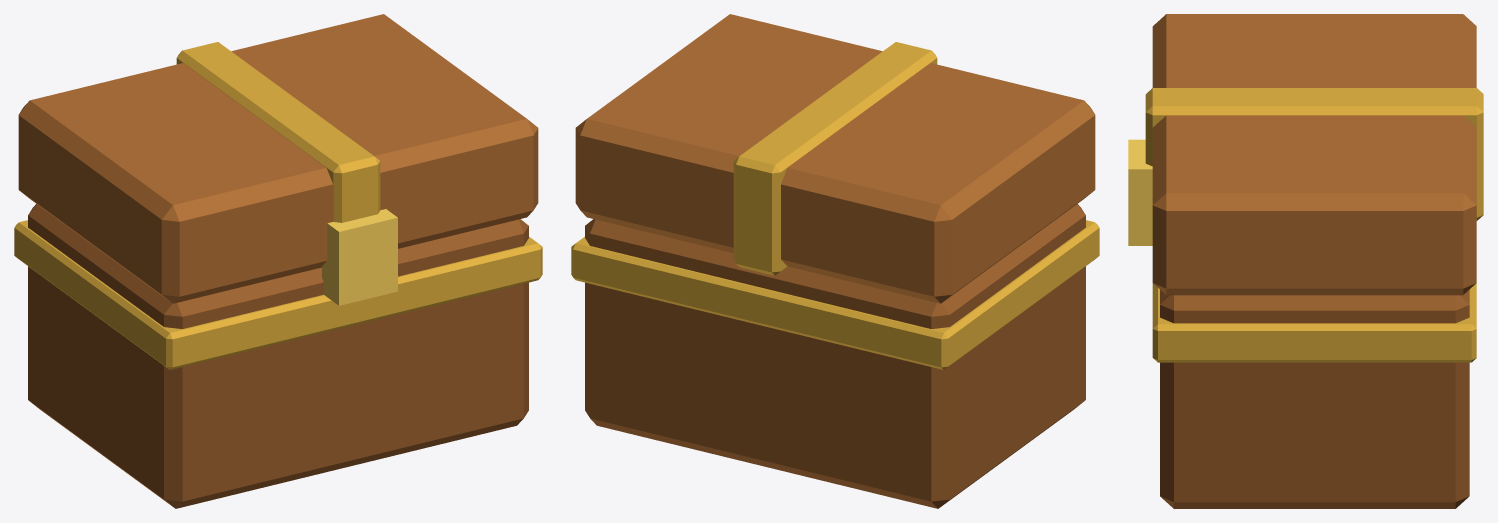
The model's file is chest.glb.
3 views of the same model, side by side, from view 1: azimuth 30°, elevation 25°; view 2: azimuth 150°, elevation 25°; view 3: azimuth 270°, elevation 25° (orthographic). The views are drawn at different scales.
Parts seen in each view (by area): view 1: Lid, Base, BandB, BandL, Lock; view 2: Lid, Base, BandB, BandL; view 3: Lid, Base, BandB, BandL, Lock.
Part boxes in pixels (bbox=[...]): Lid: bbox=[18, 14, 538, 303]; Base: bbox=[28, 204, 528, 508]; BandB: bbox=[14, 220, 542, 369]; BandL: bbox=[176, 42, 380, 222]; Lock: bbox=[322, 209, 397, 305]; Lid: bbox=[575, 14, 1095, 303]; Base: bbox=[585, 204, 1085, 508]; BandB: bbox=[571, 220, 1099, 369]; BandL: bbox=[733, 42, 937, 275]; Lid: bbox=[1152, 14, 1476, 295]; Base: bbox=[1160, 290, 1469, 508]; BandB: bbox=[1152, 283, 1476, 362]; BandL: bbox=[1145, 88, 1483, 220]; Lock: bbox=[1128, 139, 1152, 245].
Bounding box in the file's own units: 0.64 × 0.51 × 0.505.
